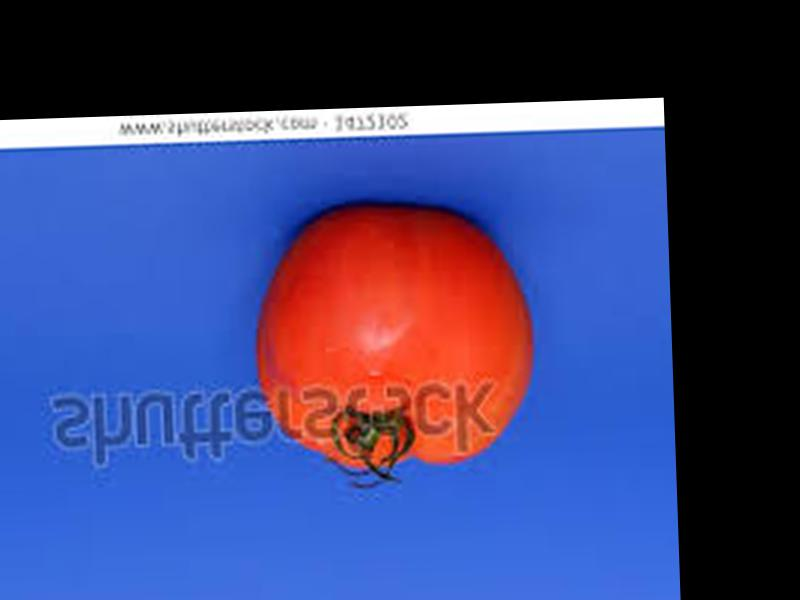Tomato: (255, 203, 542, 474)
